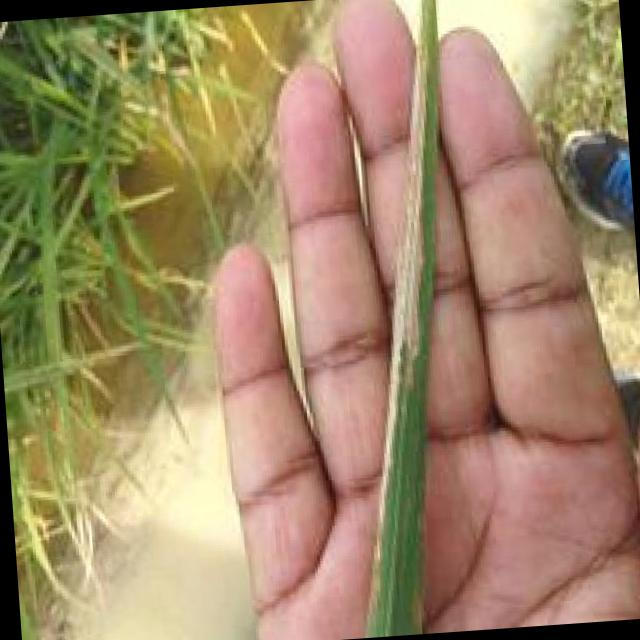Rice_Bacterial_Blight: (344, 51, 438, 548)
